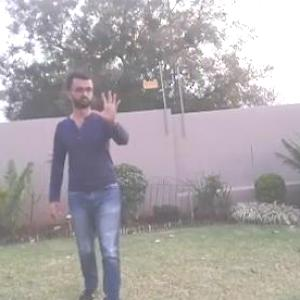follow_hand: (91, 86, 124, 123)
